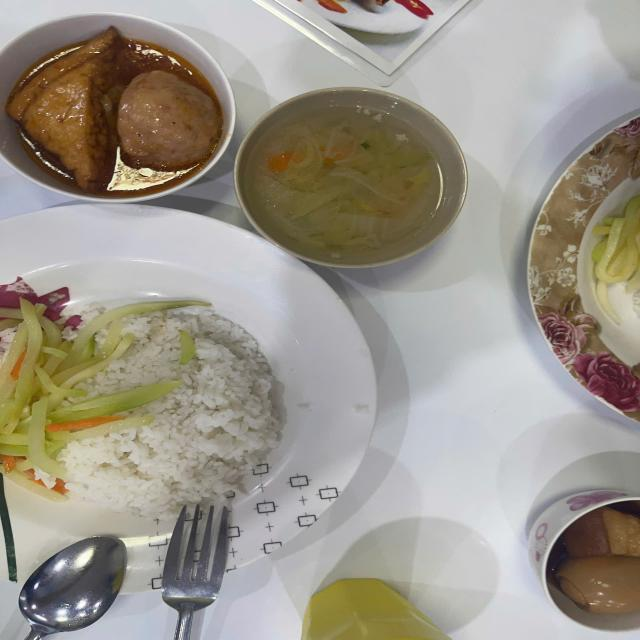canh cai: (245, 108, 442, 264)
com: (63, 308, 287, 522)
dau hu: (9, 29, 123, 189)
kho trung: (117, 70, 220, 169), (555, 506, 640, 614)
rau: (0, 298, 192, 478), (591, 194, 640, 323)
